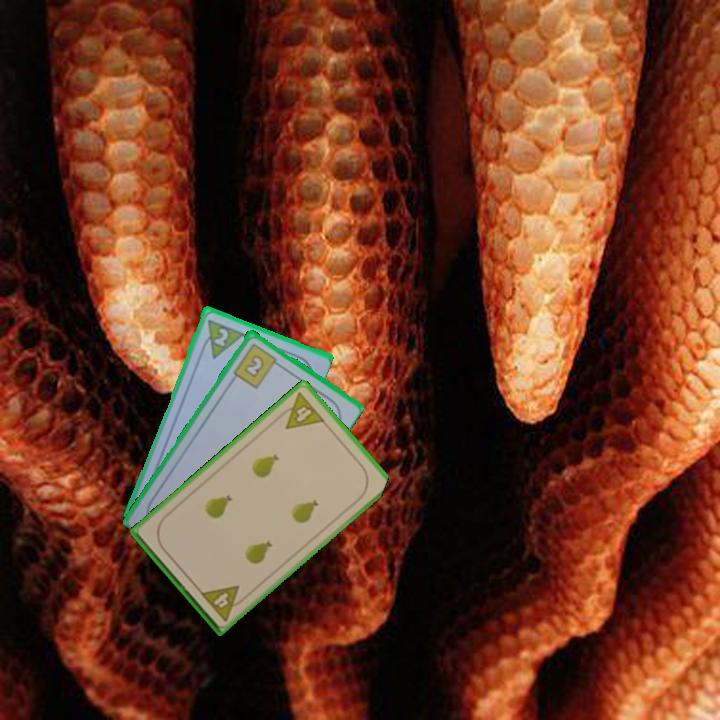2b: (229, 339, 284, 391)
2p: (210, 324, 231, 349)
4p: (273, 388, 328, 432), (196, 581, 250, 624)
